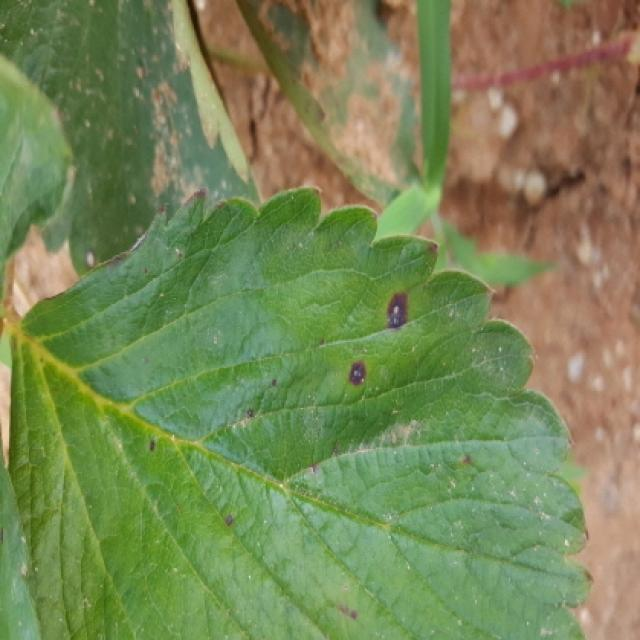Leaf Spot: (7, 186, 595, 638)
